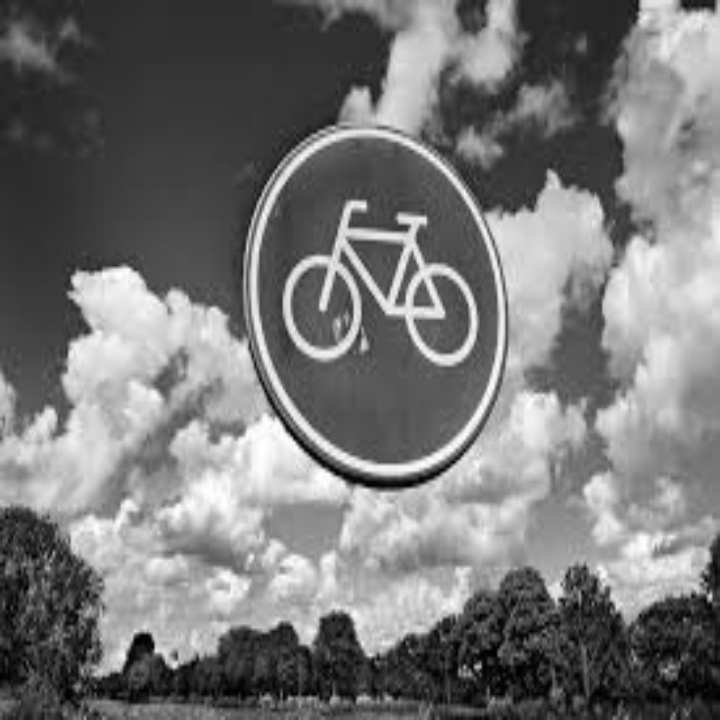bicycle: (273, 187, 493, 375)
